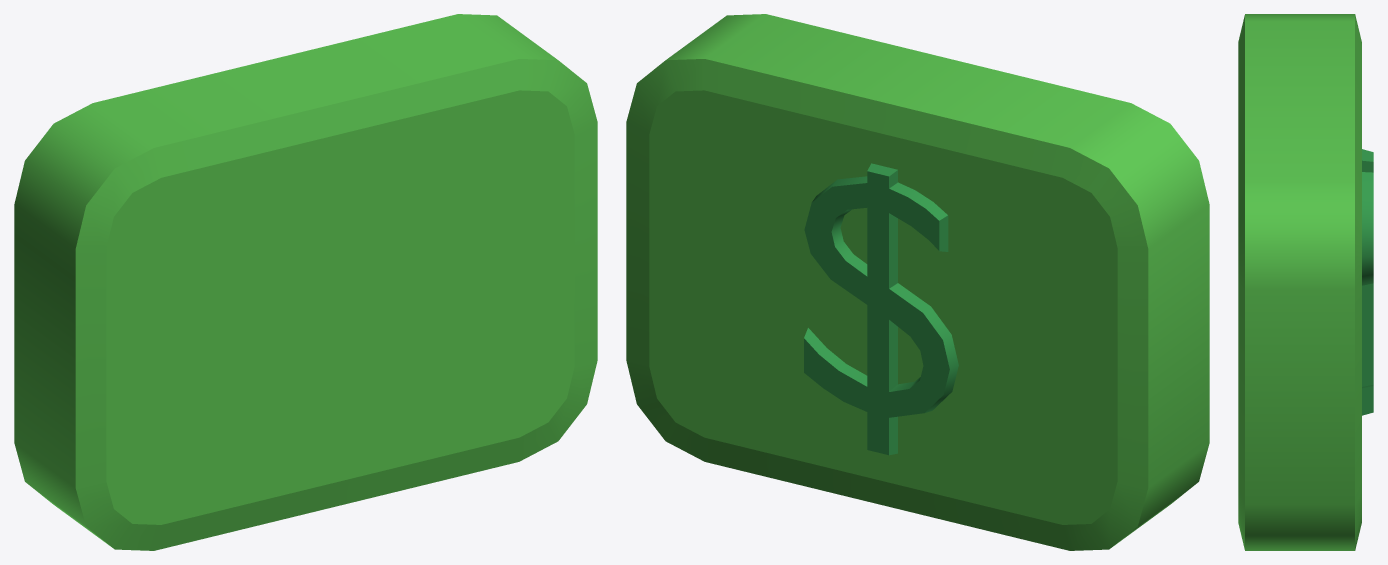
File: Currency Big.fbx
The picture shows the model from 3 angles, left to right: view 1: azimuth 30°, elevation 25°; view 2: azimuth 150°, elevation 25°; view 3: azimuth 270°, elevation 25°; orthographic projection. The views are drawn at different scales.
Parts seen in each view (by area): view 1: Currency Big; view 2: Currency Big; view 3: Currency Big.
Part boxes in pixels (bbox=[...]): Currency Big: bbox=[14, 14, 597, 550]; Currency Big: bbox=[626, 14, 1209, 550]; Currency Big: bbox=[1238, 14, 1373, 550].
Size of the model in its own units: 0.9268 by 0.6839 by 0.2321.
